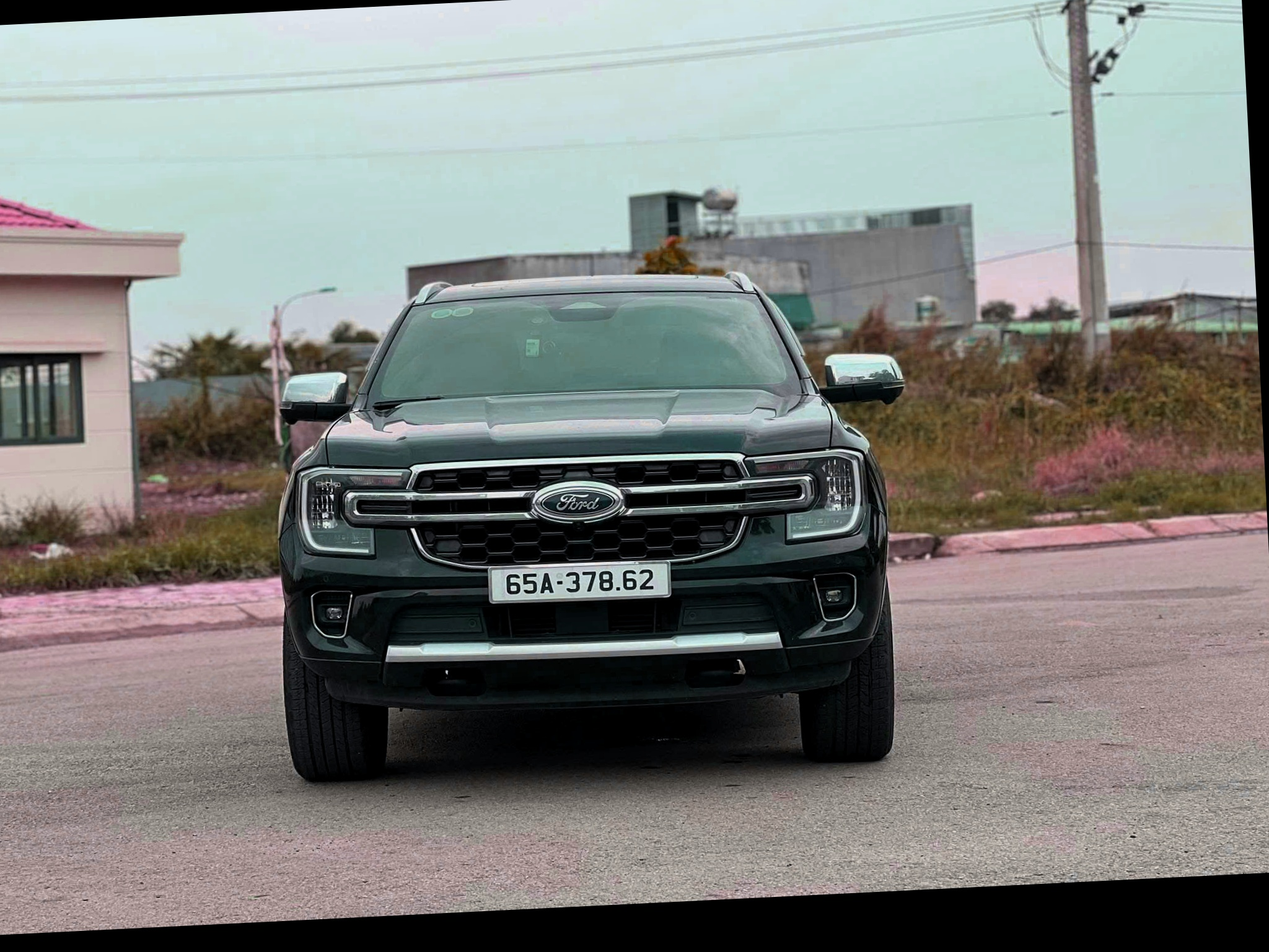Bien-so: (489, 559, 669, 612)
